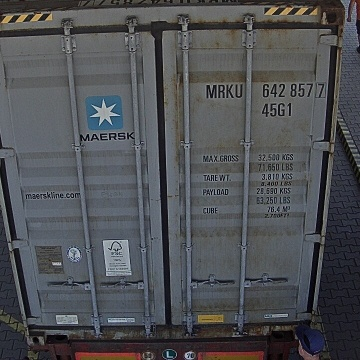serial_id: (206, 83, 326, 98)
